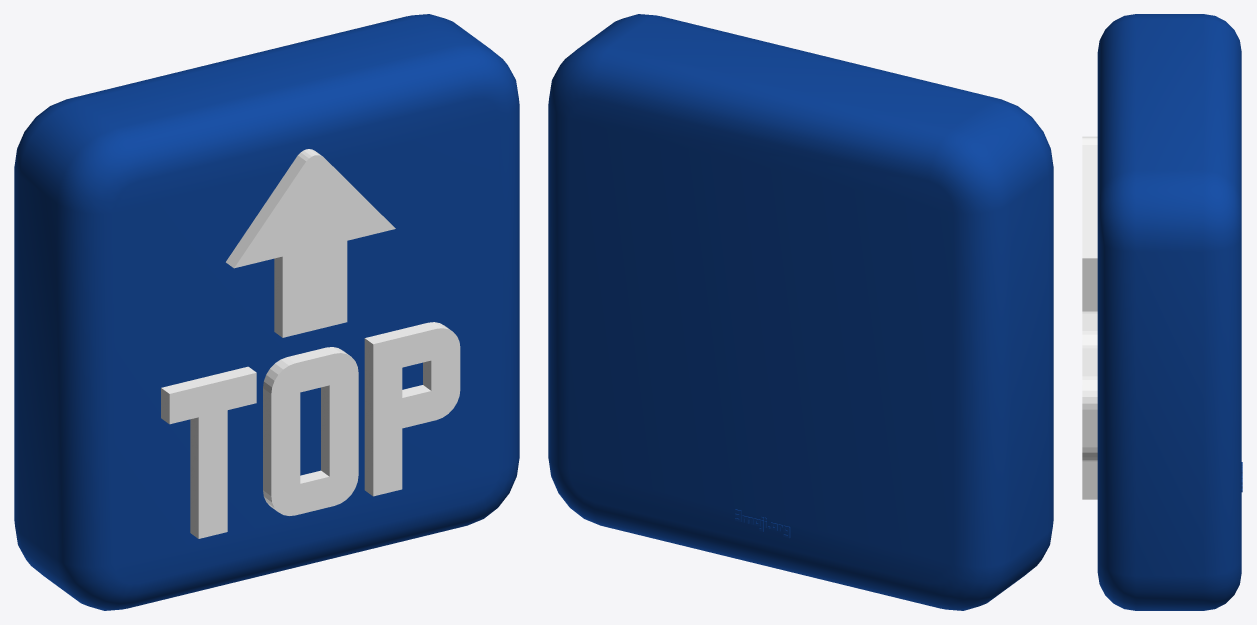
File: top_arrow.fbx
The picture shows the model from 3 angles, left to right: view 1: azimuth 30°, elevation 25°; view 2: azimuth 150°, elevation 25°; view 3: azimuth 270°, elevation 25°; orthographic projection. The views are drawn at different scales.
Parts seen in each view (by area): view 1: Cube.6382; view 2: Cube.6382; view 3: Cube.6382.
Part boxes in pixels (<box>): Cube.6382: <box>14,14,519,610</box>; Cube.6382: <box>548,14,1053,610</box>; Cube.6382: <box>1082,14,1242,610</box>.
Bounding box in the file's own units: 220 × 220 × 73.38.
Materials: 1 (1 with a texture image).
